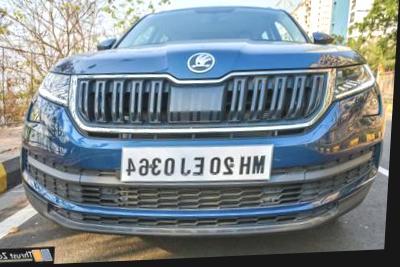License_Plate: (117, 142, 276, 181)
